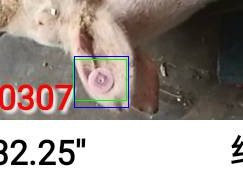text: (73, 59, 126, 100)
